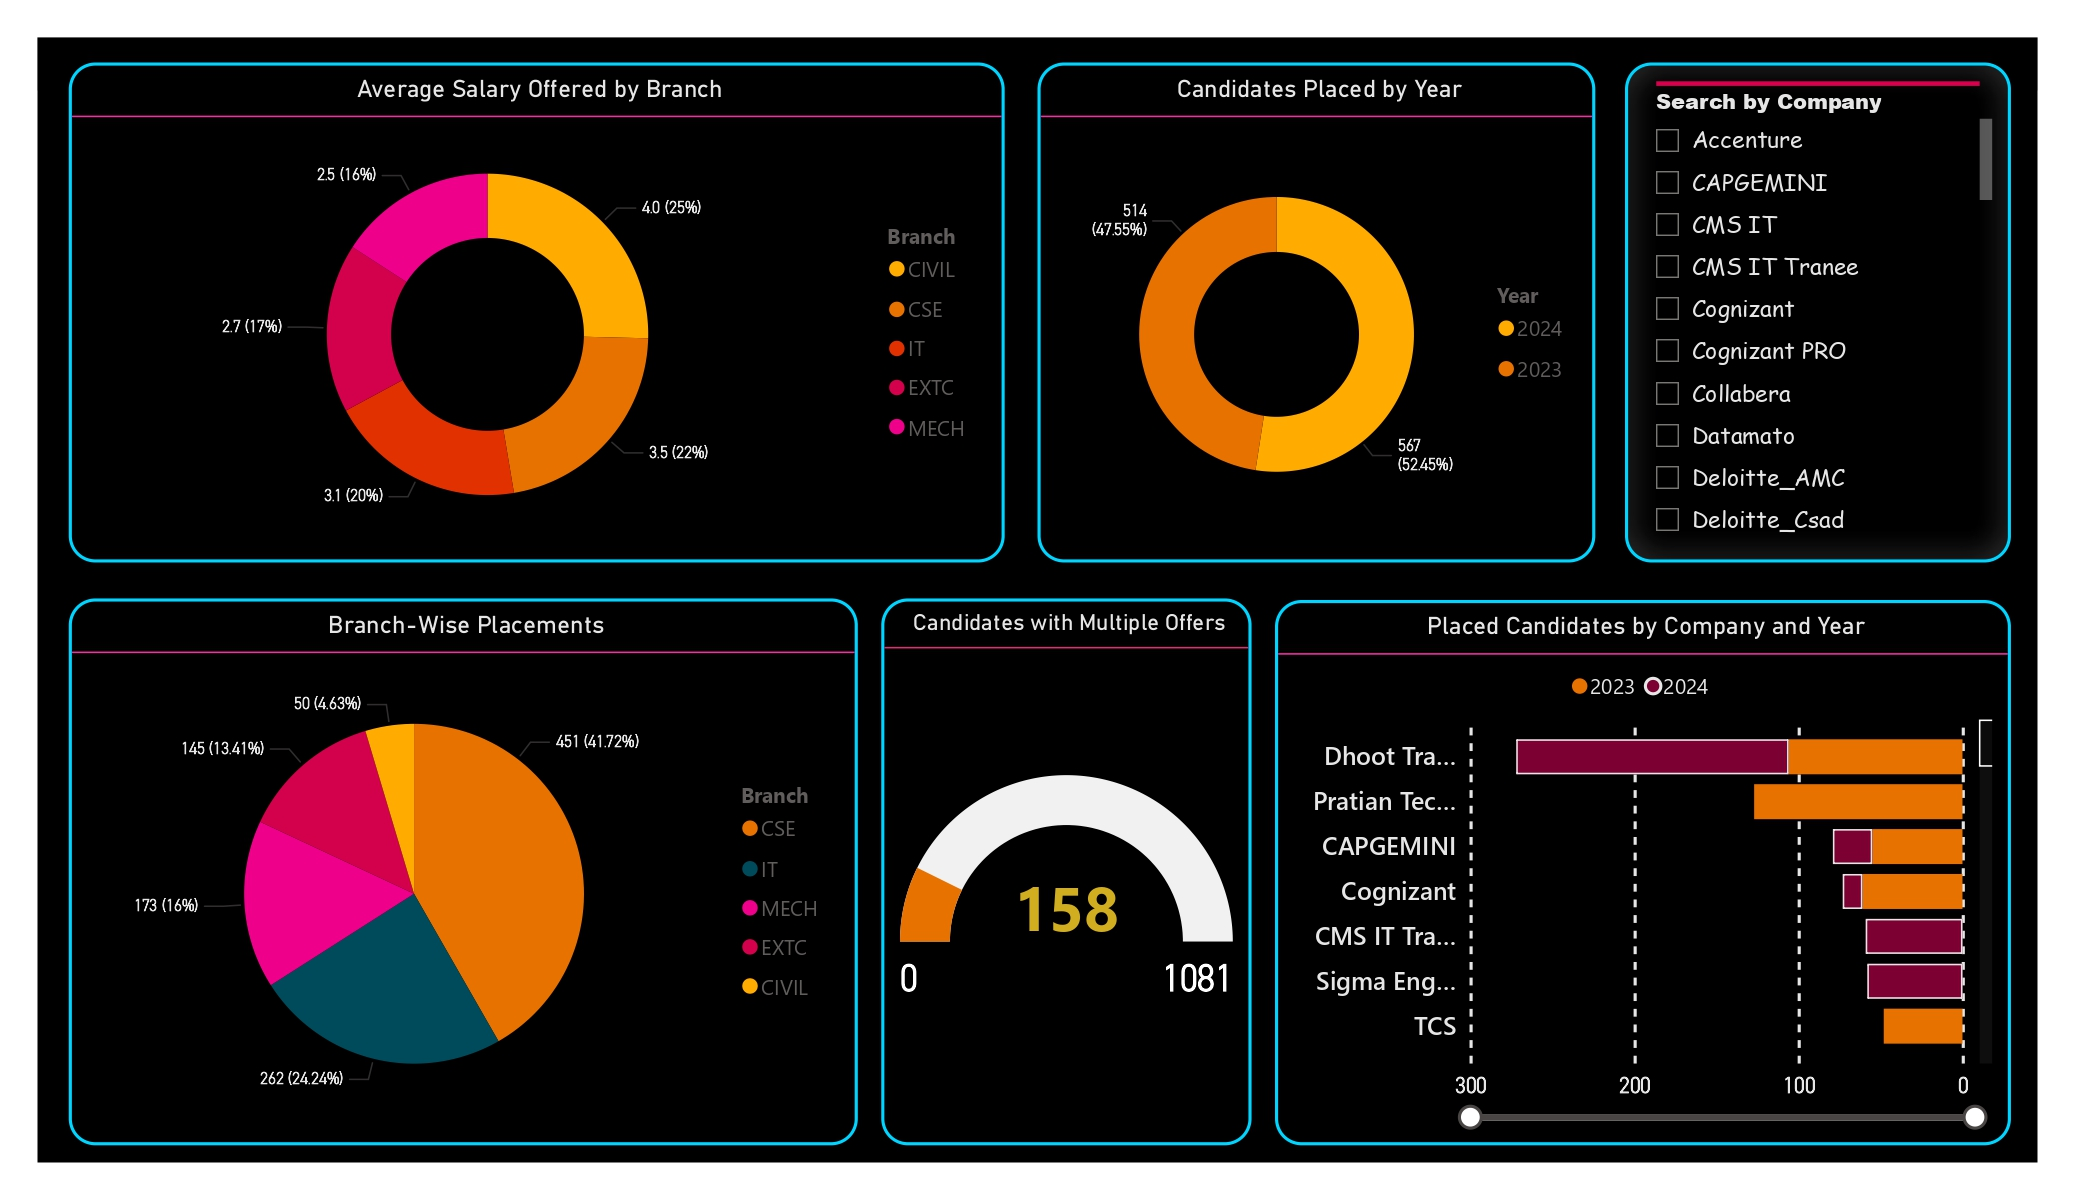

This screenshot's page, from the dashboard's own definition file:
{"tool":"powerbi","page":{"name":"Page 1","canvas":[1280,720],"ordinal":0},"visuals":[{"type":"donutChart","title":"Candidates Placed by Year","fields":{"Category":["FinalDataForBI.Year"],"Y":["CountNonNull(FinalDataForBI.Candidate Name)"]},"box":[640.4,16,356.6,320.2],"z":0},{"type":"pieChart","title":"Branch-Wise Placements","fields":{"Category":["FinalDataForBI.Branch"],"Y":["CountNonNull(FinalDataForBI.Candidate Name)"]},"box":[19.9,359.5,505.2,349.5],"z":1000},{"type":"barChart","title":" Placed Candidates  by Company and Year","fields":{"Category":["FinalDataForBI.Company"],"Series":["FinalDataForBI.Year"],"Y":["CountNonNull(FinalDataForBI.Candidate Name)"]},"box":[791.8,359.5,471.6,349.3],"z":2000},{"type":"slicer","fields":{"Values":["FinalDataForBI.Company"]},"box":[1016,16,247.4,320.2],"z":3000},{"type":"gauge","title":"Candidates with Multiple Offers","fields":{"Y":["CountNonNull(FinalDataForBI (2).Single List of True)"],"MaxValue":["CountNonNull(FinalDataForBI (2).Column1)"]},"box":[540,359.5,236.9,349.5],"z":4000},{"type":"donutChart","title":"Average Salary Offered by Branch","fields":{"Category":["FinalDataForBI.Branch"],"Y":["Avg(FinalDataForBI.Salary Offered)"]},"box":[20.4,16,598.2,320.2],"z":5000}]}

Visuals, with their boxes in screenshot pixels (x1, y1, x2, y2):
"Candidates Placed by Year" donutChart: <region>1038, 62, 1595, 563</region>
"Branch-Wise Placements" pieChart: <region>69, 599, 858, 1145</region>
" Placed Candidates  by Company and Year" barChart: <region>1275, 599, 2012, 1145</region>
slicer - FinalDataForBI.Company: <region>1625, 62, 2012, 563</region>
"Candidates with Multiple Offers" gauge: <region>881, 599, 1251, 1145</region>
"Average Salary Offered by Branch" donutChart: <region>69, 62, 1004, 563</region>
